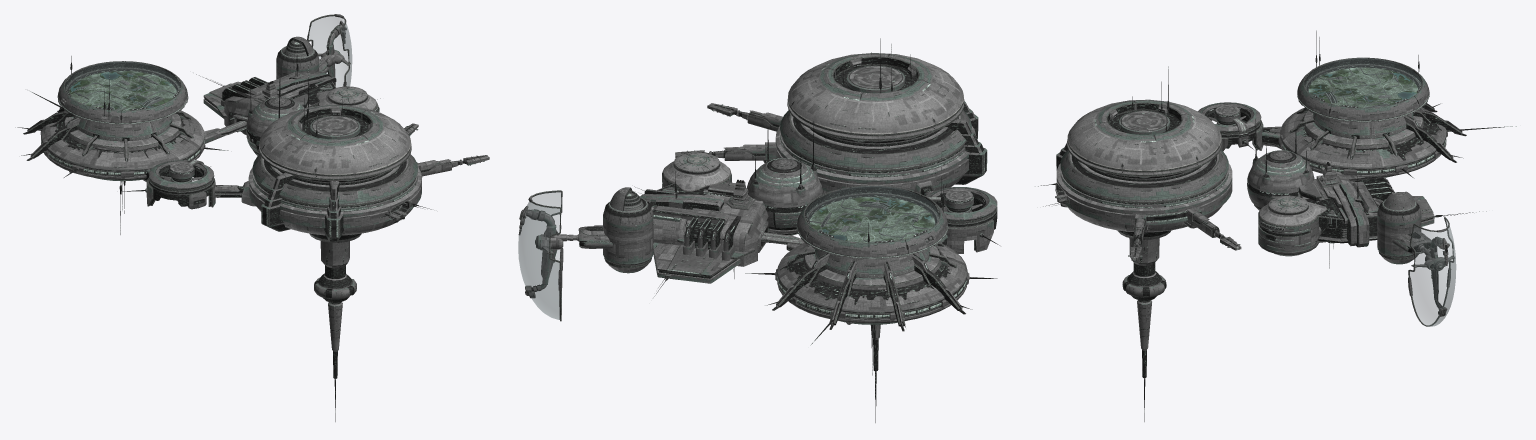
The model's file is 3867_lite.glb.
3 renders of one model, left to right at view 1: azimuth 30°, elevation 25°; view 2: azimuth 150°, elevation 25°; view 3: azimuth 270°, elevation 25°, orthographic. The views are drawn at different scales.
Visible parts, largest first — view 1: gsShape5, gsShape5.001; view 2: gsShape5, gsShape5.001; view 3: gsShape5, gsShape5.001.
Boxes of the visible parts, x1,y1,x2,y2 form: gsShape5: (15, 14, 489, 421); gsShape5.001: (65, 16, 352, 110); gsShape5: (518, 38, 999, 422); gsShape5.001: (518, 186, 939, 319); gsShape5: (1035, 30, 1516, 421); gsShape5.001: (1304, 58, 1456, 326).
Size of the model in its own units: 34.74 by 33.75 by 40.21.
2 materials, 1 textured.
